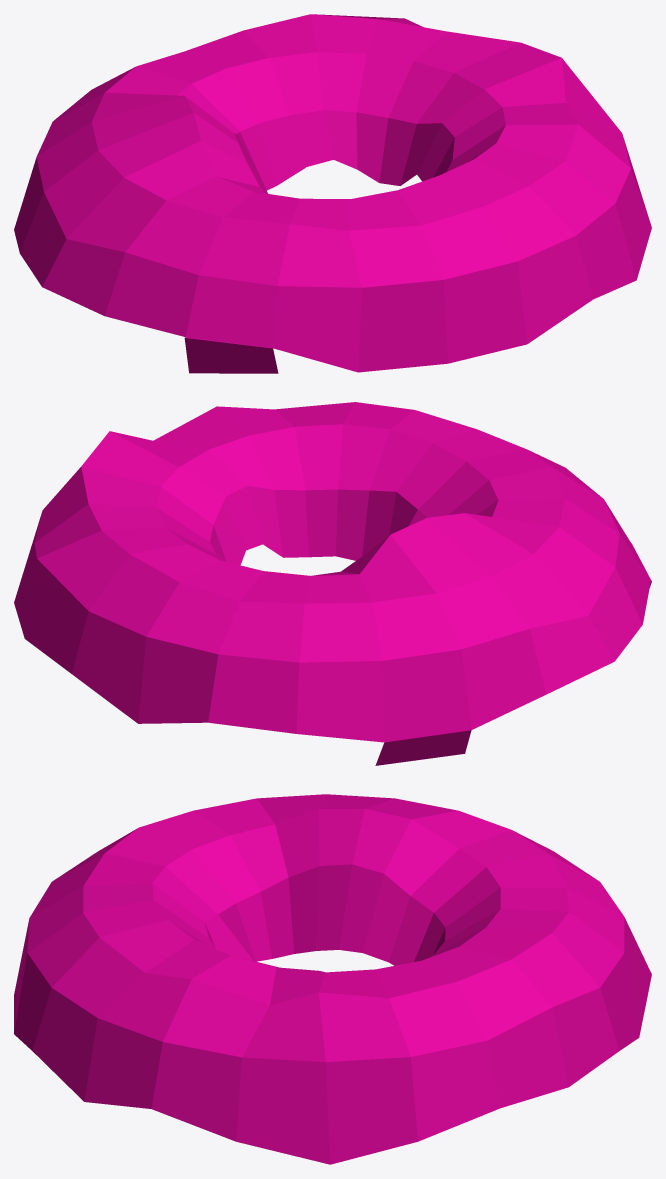
The model's file is lowpolydonut_icing_red.glb.
3 views of the same model, one above another, from view 1: azimuth 30°, elevation 25°; view 2: azimuth 150°, elevation 25°; view 3: azimuth 270°, elevation 25° (orthographic). The views are drawn at different scales.
Visible parts, largest first — view 1: Icing; view 2: Icing; view 3: Icing.
Boxes of the visible parts, x1,y1,x2,y2 form: Icing: (14, 14, 651, 373); Icing: (14, 402, 651, 765); Icing: (14, 794, 651, 1164).
Size of the model in its own units: 0.0925 by 0.0264 by 0.0892.
